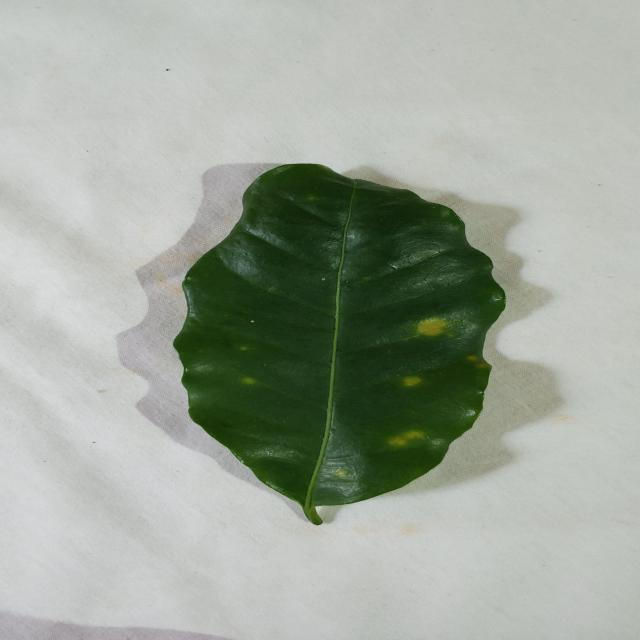Enfermedad-Roya: (172, 164, 507, 527)
